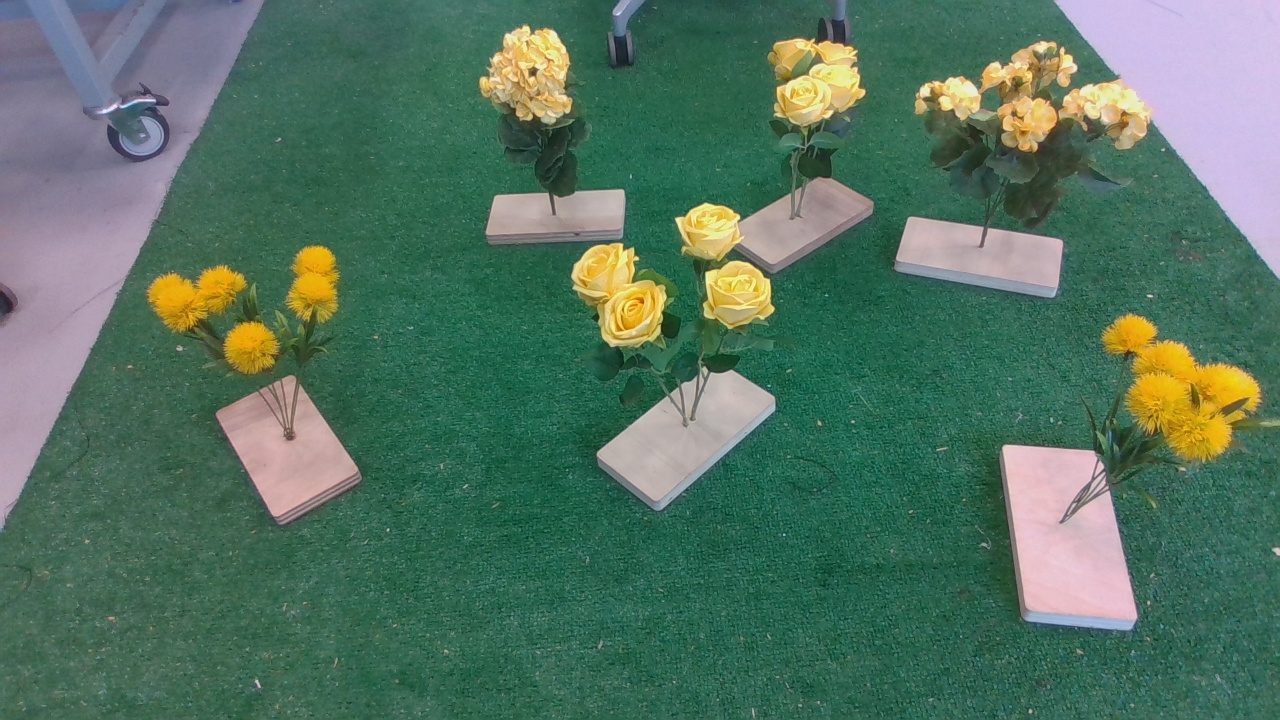dandelion: (1076, 314, 1275, 487), (141, 243, 363, 395)
geranium: (916, 36, 1164, 224), (460, 18, 600, 200)
rose: (568, 206, 785, 413), (759, 32, 877, 189)
